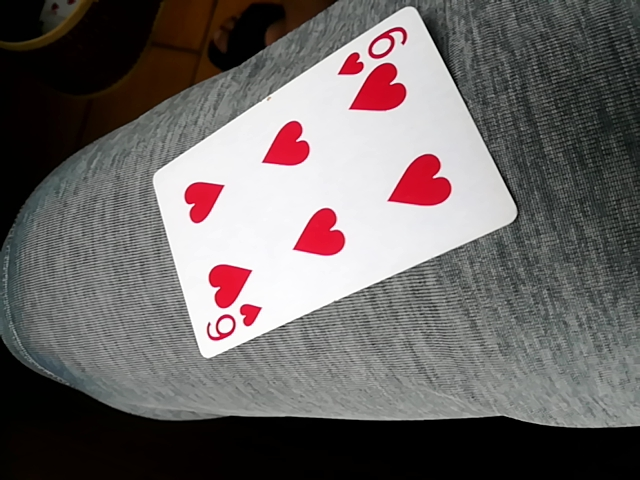hx 6: (152, 7, 519, 361)
